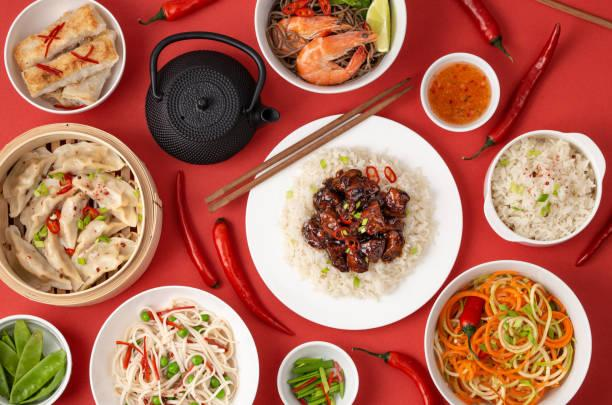Braised Crucian Carp: (245, 112, 459, 331), (2, 123, 161, 306), (422, 261, 591, 405), (88, 287, 256, 405), (483, 130, 604, 248), (253, 0, 403, 95), (2, 0, 125, 115)
